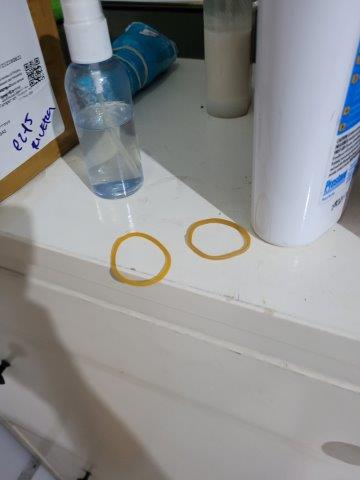karet: (112, 233, 172, 284), (185, 218, 251, 260)
